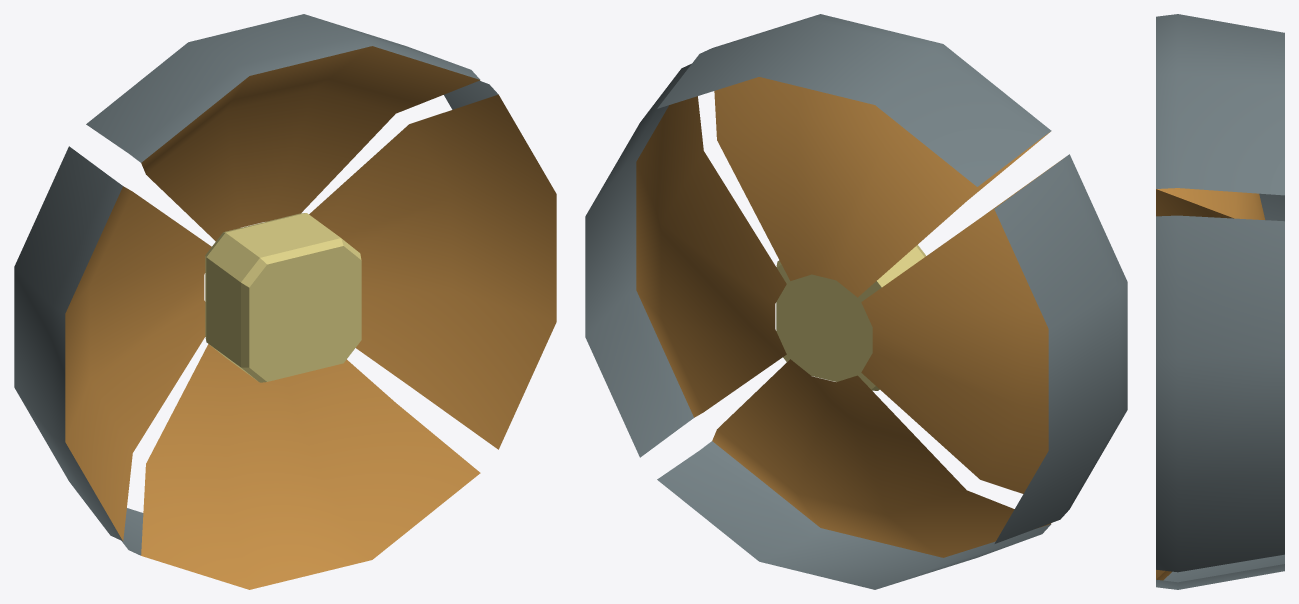
File: boss_solar_receiver.glb
3 renders of one model, left to right at view 1: azimuth 30°, elevation 25°; view 2: azimuth 150°, elevation 25°; view 3: azimuth 270°, elevation 25°, orthographic.
Visible parts, largest first — view 1: boss_solar_receiver; view 2: boss_solar_receiver; view 3: boss_solar_receiver.
Boxes of the visible parts, box(x1,y1,x2,y2) form: boss_solar_receiver: box(14, 14, 556, 589); boss_solar_receiver: box(585, 14, 1127, 589); boss_solar_receiver: box(1156, 14, 1284, 589).
Bounding box in the file's own units: 2.08 × 2.08 × 0.47.
